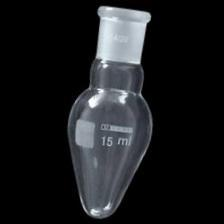Pear shaped flask: (72, 5, 152, 217)
